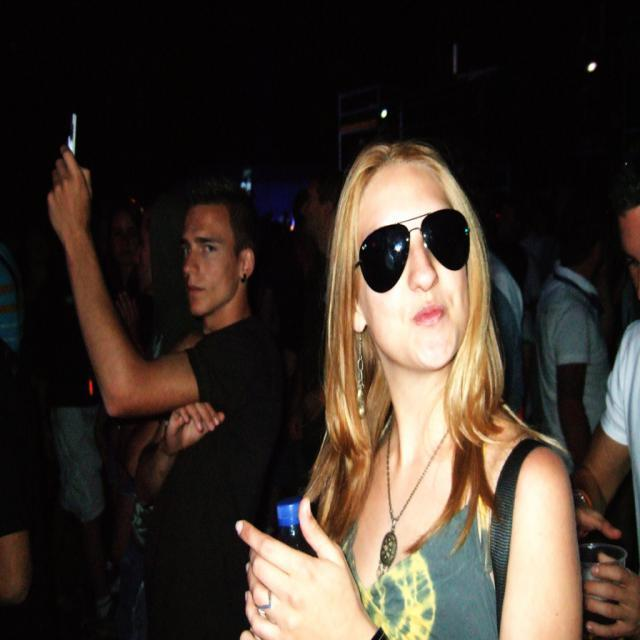closed-mouth: (412, 302, 450, 327), (186, 283, 207, 299)
